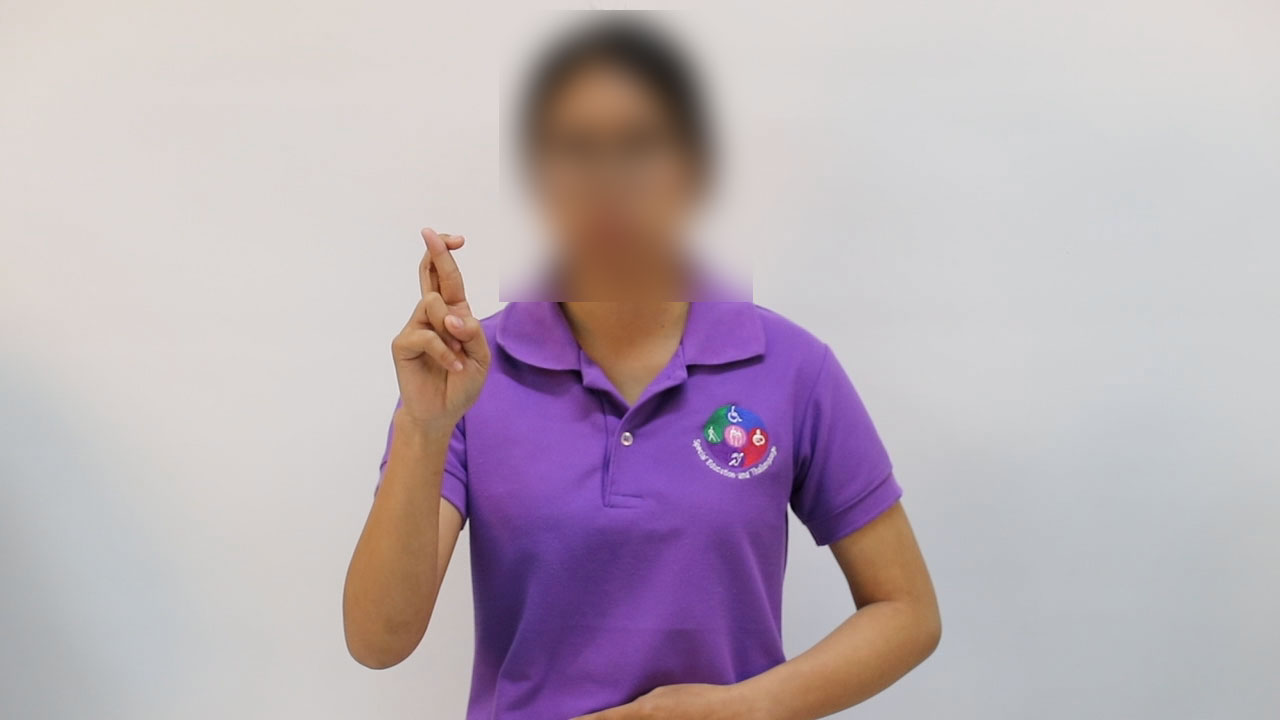rao: (373, 222, 495, 435)
